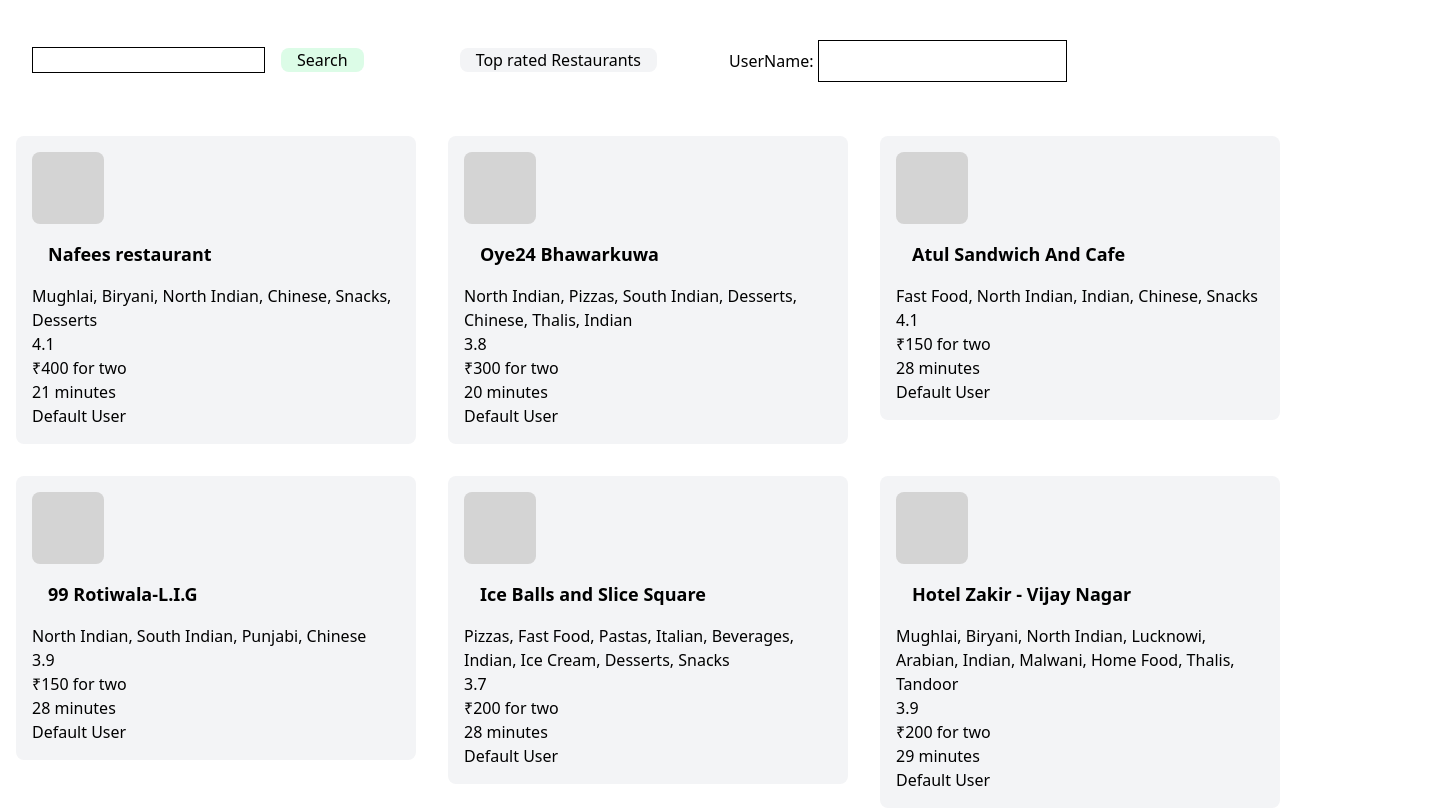
Test: should search list for the cafe text input
The width and height of the screenshot is (1440, 810).
Type "cafe" into the field with test id "searchInput".
click(148, 60); type("cafe")  # box [32,47,265,73]
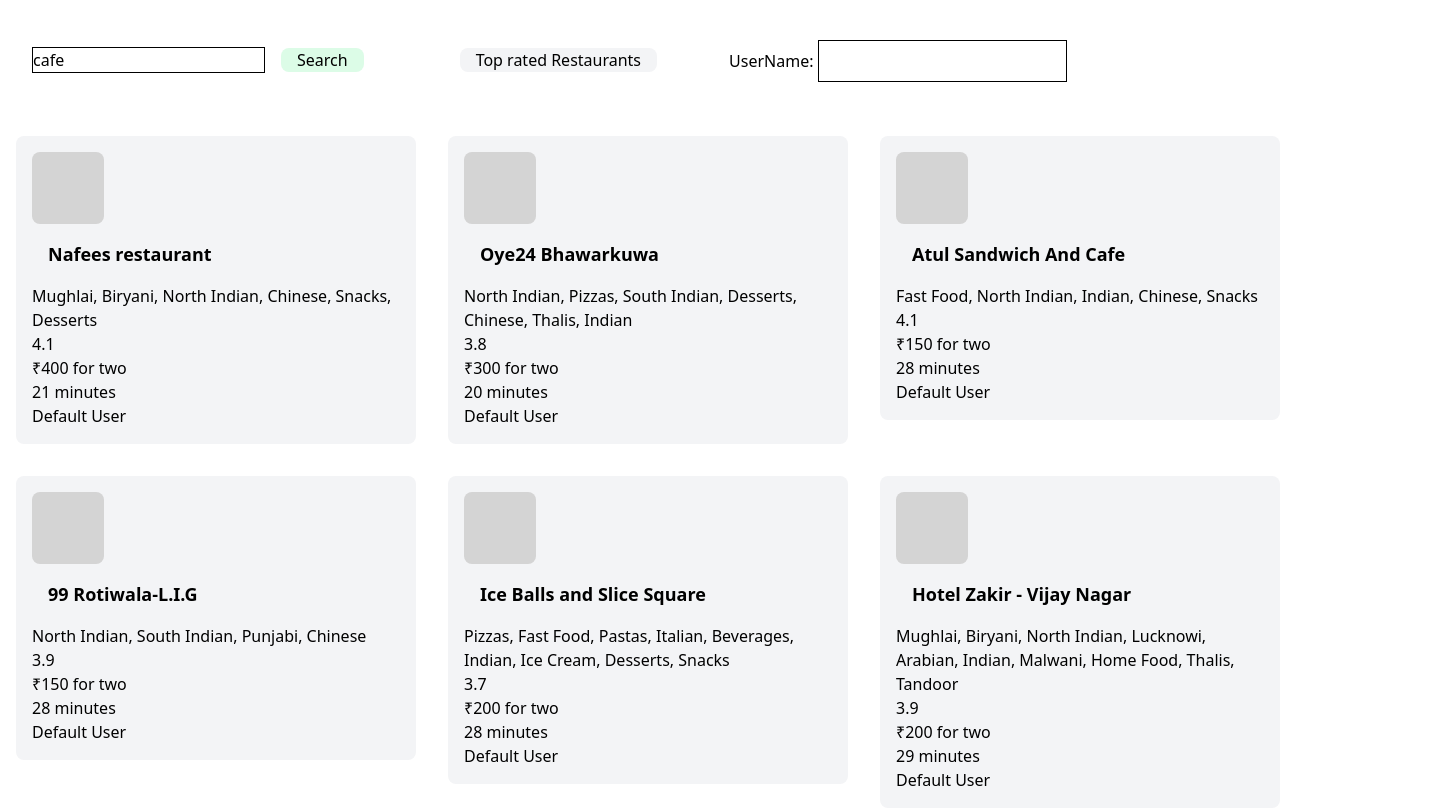
Click the button "Search".
click(322, 60)  # box [281,48,364,72]
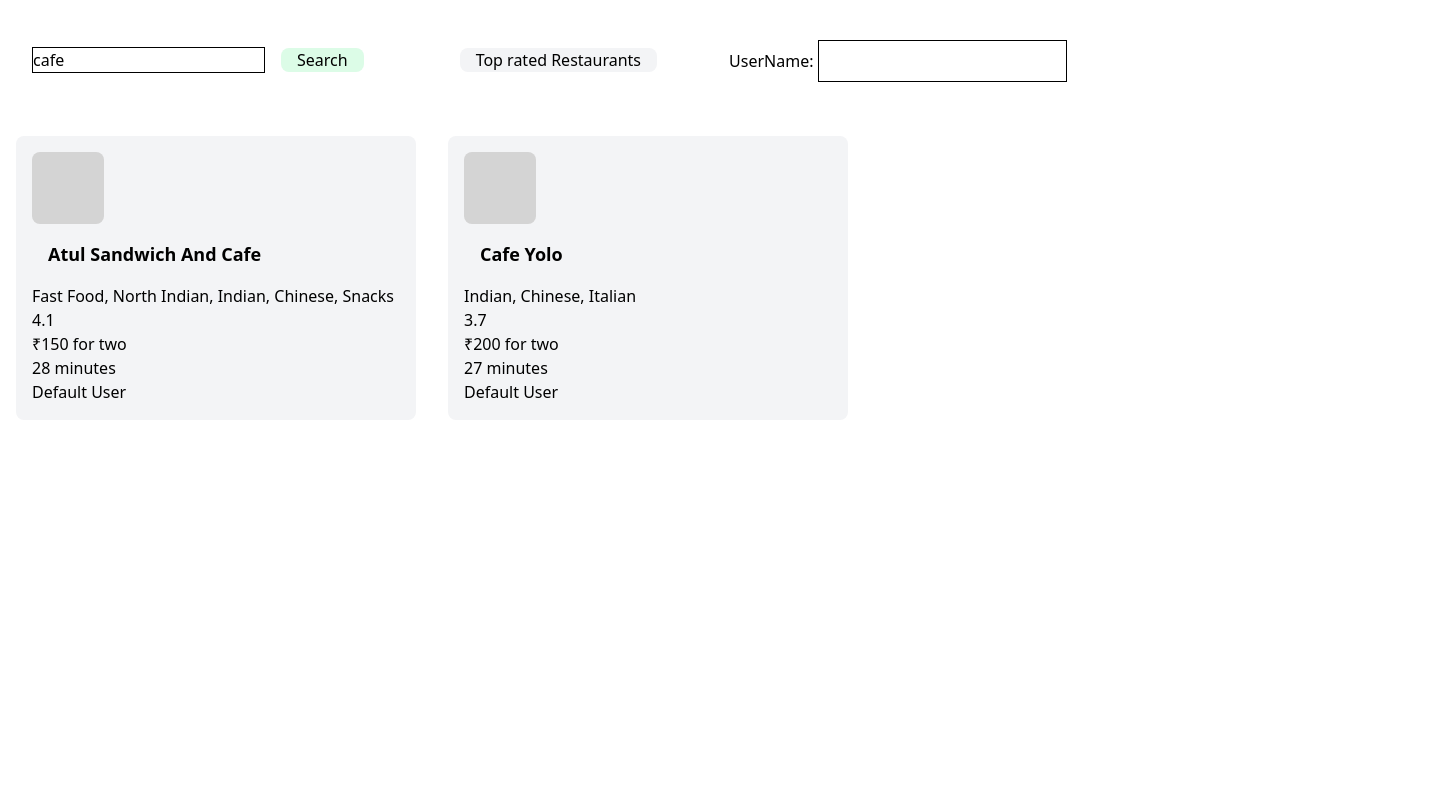
Expected: the number of elements with test id "resCard" is 2, [16,136,416,420]; [448,136,848,420]
